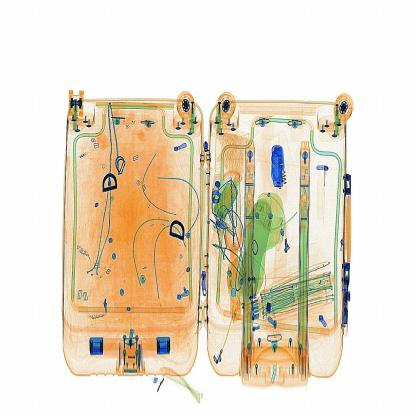scissors: (255, 138, 292, 198)
